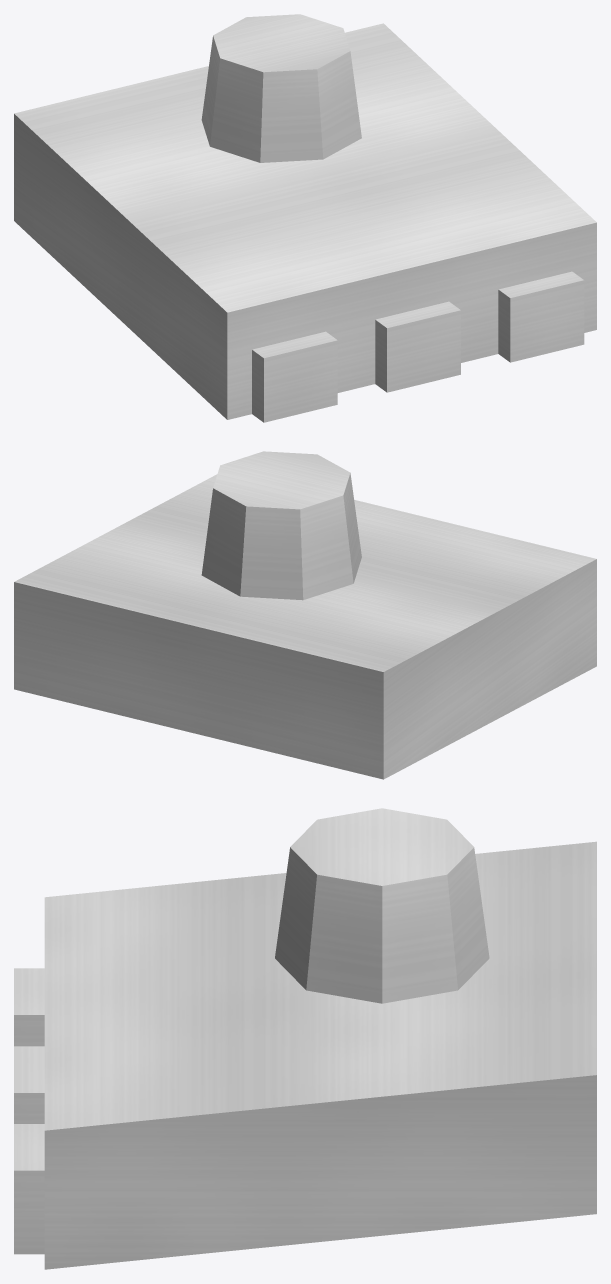
File: warwalker_foot.obj
3 renders of one model, top to bottom at view 1: azimuth 30°, elevation 25°; view 2: azimuth 150°, elevation 25°; view 3: azimuth 270°, elevation 25°, orthographic. The views are drawn at different scales.
Parts seen in each view (by area): view 1: warwalker_foot; view 2: warwalker_foot; view 3: warwalker_foot.
Part boxes in pixels (<box>): warwalker_foot: <box>14,14,596,422</box>; warwalker_foot: <box>14,451,596,779</box>; warwalker_foot: <box>14,808,596,1269</box>.
Size of the model in its own units: 1.8 by 1.1 by 1.9.
